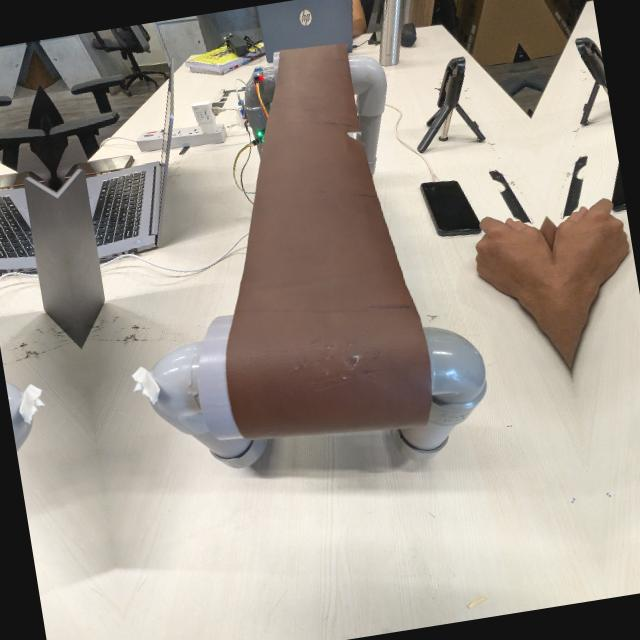belt_crack: (264, 312, 389, 385)
belt_tear: (331, 113, 380, 150)
